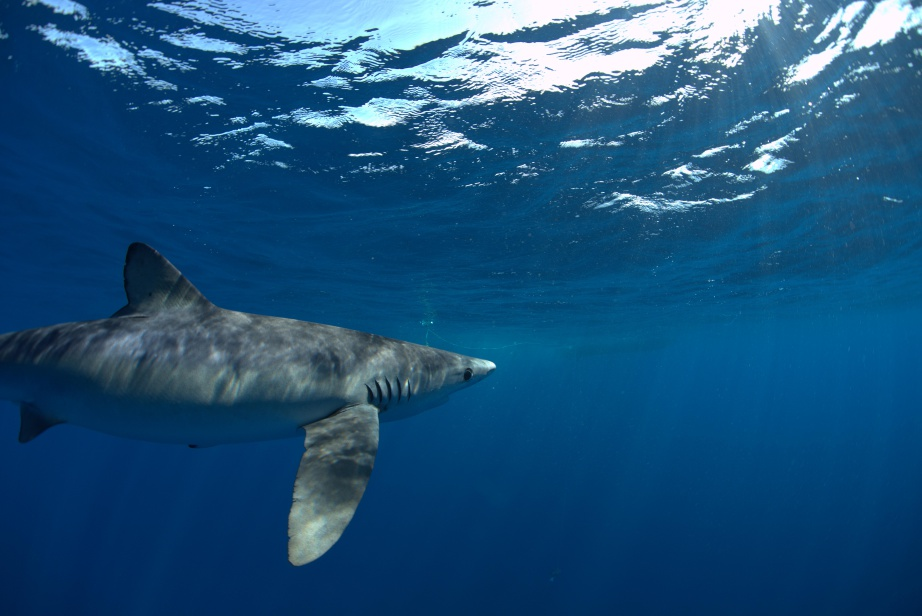Azul: (1, 233, 523, 593)
